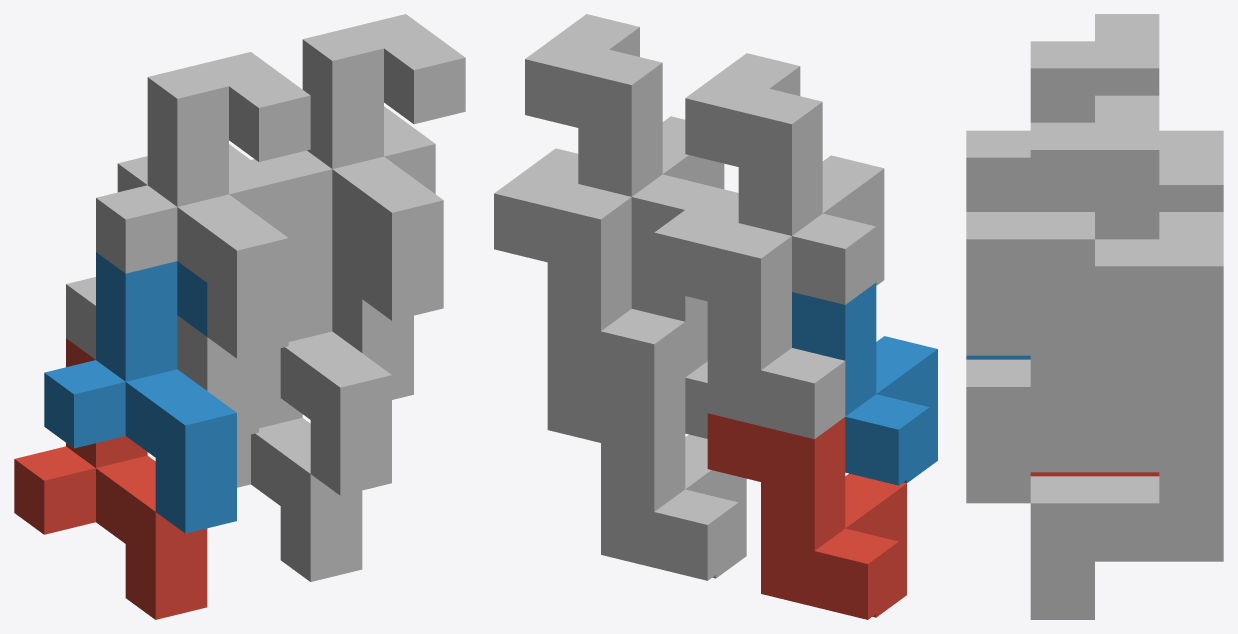
File: tiling.obj
3 renders of one model, left to right at view 1: azimuth 30°, elevation 25°; view 2: azimuth 150°, elevation 25°; view 3: azimuth 270°, elevation 25°, orthographic. The views are drawn at different scales.
Visible parts, largest first — view 1: copy_1_domain_4, copy_1_domain_8, copy_1_domain_2, copy_1_domain_6, copy_1_domain_1, copy_1_domain_5, copy_1_domain_3, copy_1_domain_7; view 2: copy_1_domain_4, copy_1_domain_7, copy_1_domain_3, copy_1_domain_1, copy_1_domain_5, copy_1_domain_8, copy_1_domain_2, copy_1_domain_6; view 3: copy_1_domain_7, copy_1_domain_8, copy_1_domain_5, copy_1_domain_4, copy_1_domain_6, copy_1_domain_3, copy_1_domain_1.
Boxes of the visible parts, x1,y1,x2,y2 form: copy_1_domain_4: (96,52,310,358); copy_1_domain_8: (251,14,465,320); copy_1_domain_2: (44,252,236,533); copy_1_domain_6: (259,223,391,495); copy_1_domain_1: (14,338,207,619); copy_1_domain_5: (237,398,362,581); copy_1_domain_3: (66,144,280,437); copy_1_domain_7: (332,106,435,399); copy_1_domain_4: (685,53,884,304); copy_1_domain_7: (494,148,685,399); copy_1_domain_3: (654,187,845,439); copy_1_domain_1: (707,413,906,619); copy_1_domain_5: (547,374,746,580); copy_1_domain_8: (525,14,724,257); copy_1_domain_2: (792,282,937,485); copy_1_domain_6: (631,253,707,438); copy_1_domain_7: (1030,212,1223,472); copy_1_domain_8: (966,95,1159,355); copy_1_domain_5: (1030,414,1223,619); copy_1_domain_4: (966,14,1159,211); copy_1_domain_6: (966,297,1159,503); copy_1_domain_3: (1159,130,1223,211); copy_1_domain_1: (1030,472,1159,476).
Size of the model in its own units: 7 by 9 by 4.
